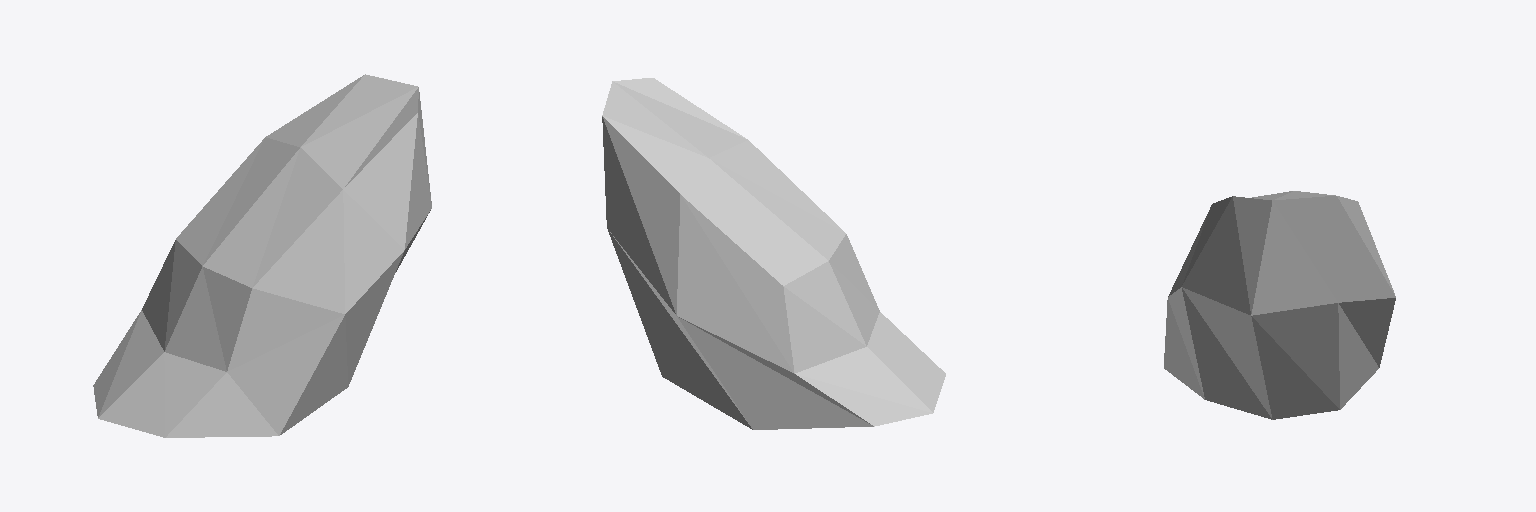
File: Rock_5.obj
3 views of the same model, side by side, from view 1: azimuth 30°, elevation 25°; view 2: azimuth 150°, elevation 25°; view 3: azimuth 270°, elevation 25° (orthographic).
Parts seen in each view (by area): view 1: Cube; view 2: Cube; view 3: Cube.
Part boxes in pixels (x1,y1,x2,y2): Cube: (93,74,431,437); Cube: (602,78,945,429); Cube: (1164,191,1395,419).
Bounding box in the file's own units: 5.54 × 4.35 × 3.45.